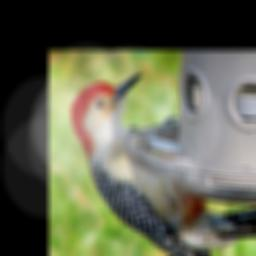Woodpecker: (70, 73, 256, 256)
